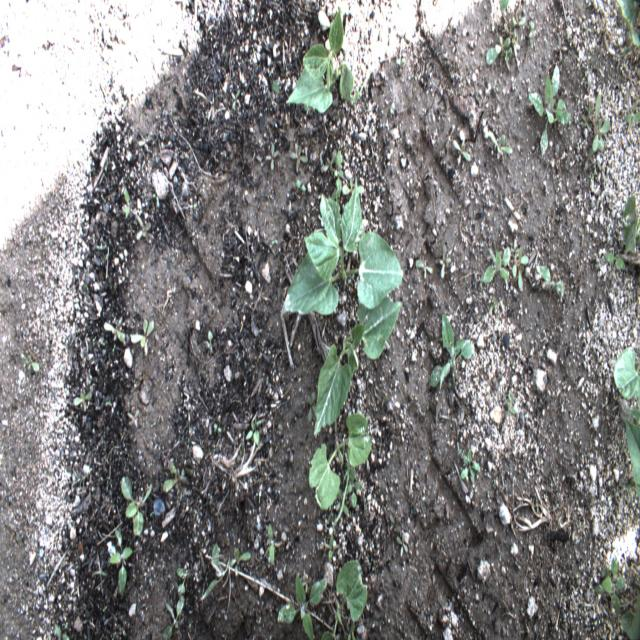crop: (278, 170, 404, 322), (314, 287, 405, 437), (286, 3, 354, 114), (308, 414, 372, 509), (612, 347, 639, 502), (320, 560, 368, 639), (616, 1, 640, 55), (614, 594, 640, 639), (622, 194, 640, 255)
weed: (528, 62, 571, 156), (198, 542, 250, 616), (429, 313, 474, 395), (277, 573, 329, 639), (593, 552, 625, 622), (120, 475, 152, 536), (109, 529, 133, 597), (588, 86, 610, 152), (480, 247, 510, 283), (535, 264, 564, 300), (162, 596, 184, 639), (131, 318, 154, 358), (486, 36, 512, 71), (512, 249, 529, 293), (461, 447, 480, 486), (331, 145, 343, 202), (348, 458, 360, 507), (104, 317, 124, 343), (163, 462, 180, 492), (605, 250, 626, 270), (245, 420, 261, 446), (264, 524, 274, 565), (72, 392, 92, 411)
